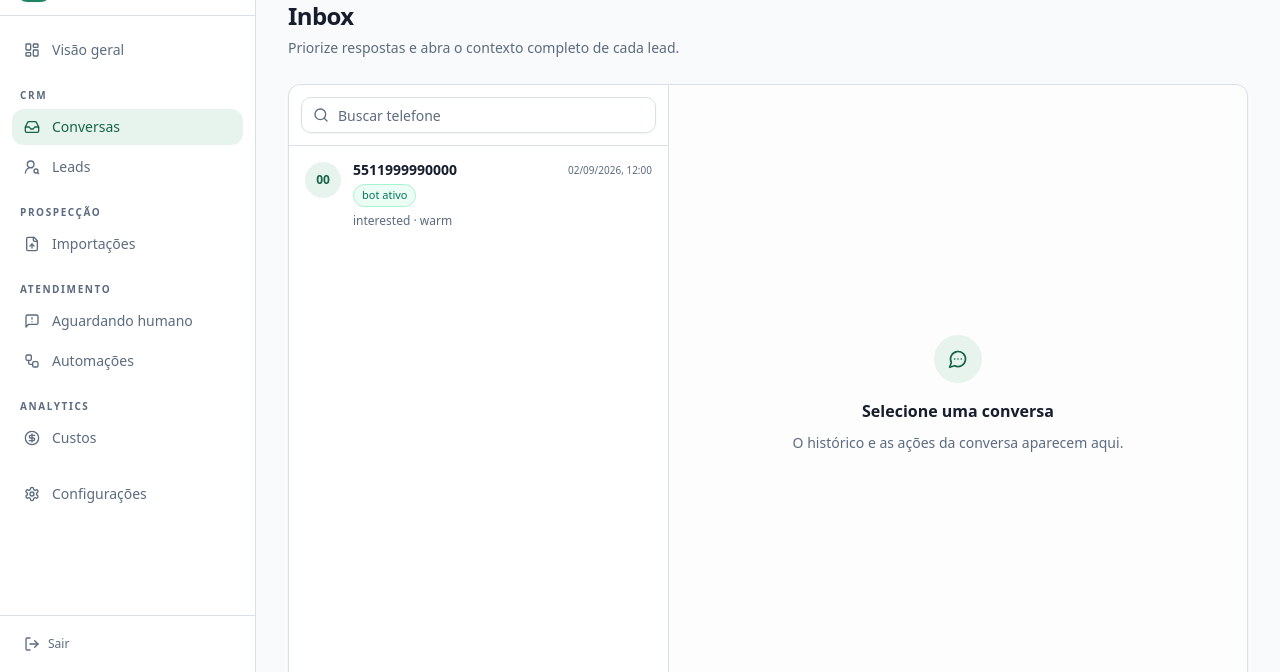
Scenario: InboxRoute › abre o histórico no painel direito no desktop sem trocar de rota
The image size is (1280, 672).
Click the button "5511999990000": (323, 180) top-left (289, 146), bottom-right (668, 242)
(page scrolled)
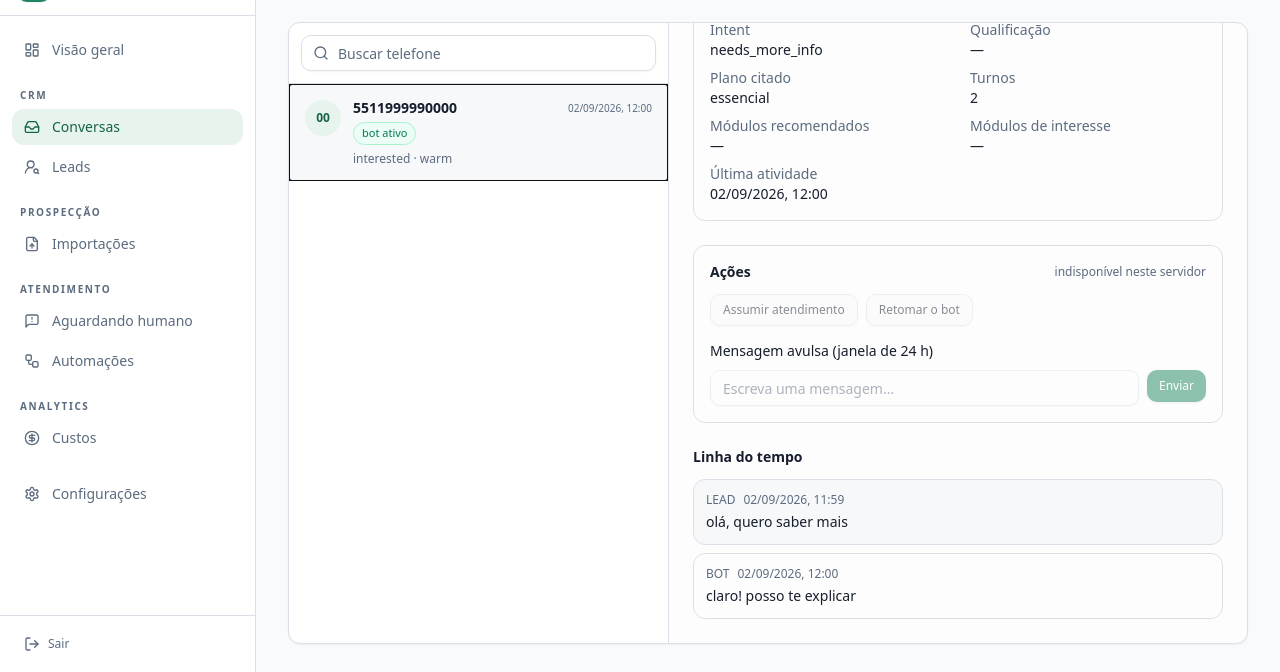
expect the text "olá, quero saber mais" is shown: met, box top-left (706, 512), bottom-right (848, 531)
